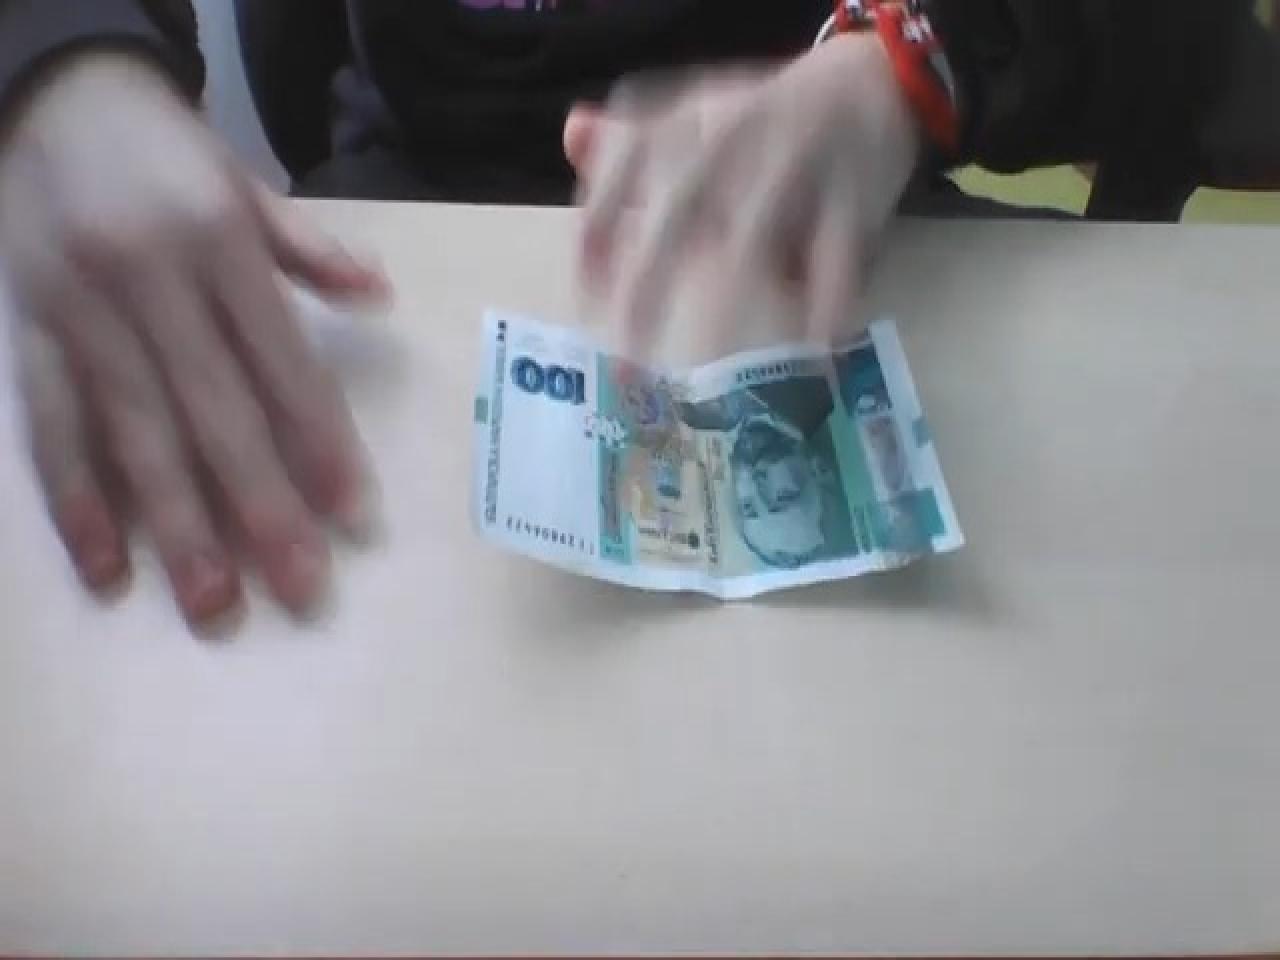100leva: (468, 304, 966, 600)
